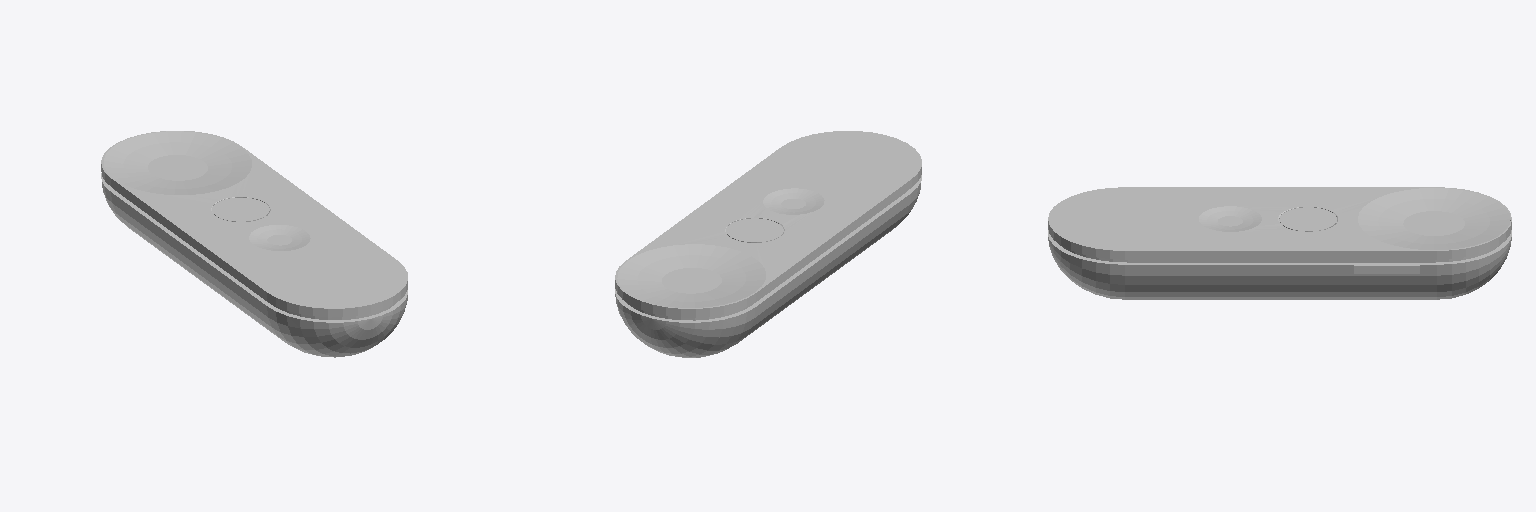
File: vr_controller_daydream.obj
3 views of the same model, side by side, from view 1: azimuth 30°, elevation 25°; view 2: azimuth 150°, elevation 25°; view 3: azimuth 270°, elevation 25° (orthographic).
Visible parts, largest first — view 1: Body_Body_Cylinder, TouchPad_TouchPad_Cylinder.003, AppButton_AppButton_Cylinder.004, HomeButton_HomeButton_Cylinder.005; view 2: Body_Body_Cylinder, TouchPad_TouchPad_Cylinder.003, AppButton_AppButton_Cylinder.004, HomeButton_HomeButton_Cylinder.005; view 3: Body_Body_Cylinder, TouchPad_TouchPad_Cylinder.003, AppButton_AppButton_Cylinder.004, HomeButton_HomeButton_Cylinder.005.
Boxes of the visible parts, box(x1,y1,x2,y2) form: Body_Body_Cylinder: box(101, 131, 407, 357); TouchPad_TouchPad_Cylinder.003: box(104, 131, 251, 194); AppButton_AppButton_Cylinder.004: box(249, 225, 310, 250); HomeButton_HomeButton_Cylinder.005: box(212, 197, 269, 221); Body_Body_Cylinder: box(615, 131, 921, 357); TouchPad_TouchPad_Cylinder.003: box(617, 244, 765, 307); AppButton_AppButton_Cylinder.004: box(763, 188, 824, 214); HomeButton_HomeButton_Cylinder.005: box(726, 218, 783, 242); Body_Body_Cylinder: box(1048, 187, 1511, 299); TouchPad_TouchPad_Cylinder.003: box(1358, 188, 1510, 249); AppButton_AppButton_Cylinder.004: box(1199, 206, 1261, 231); HomeButton_HomeButton_Cylinder.005: box(1279, 207, 1336, 231).
Bounding box in the file's own units: 0.0343 × 0.018 × 0.104.